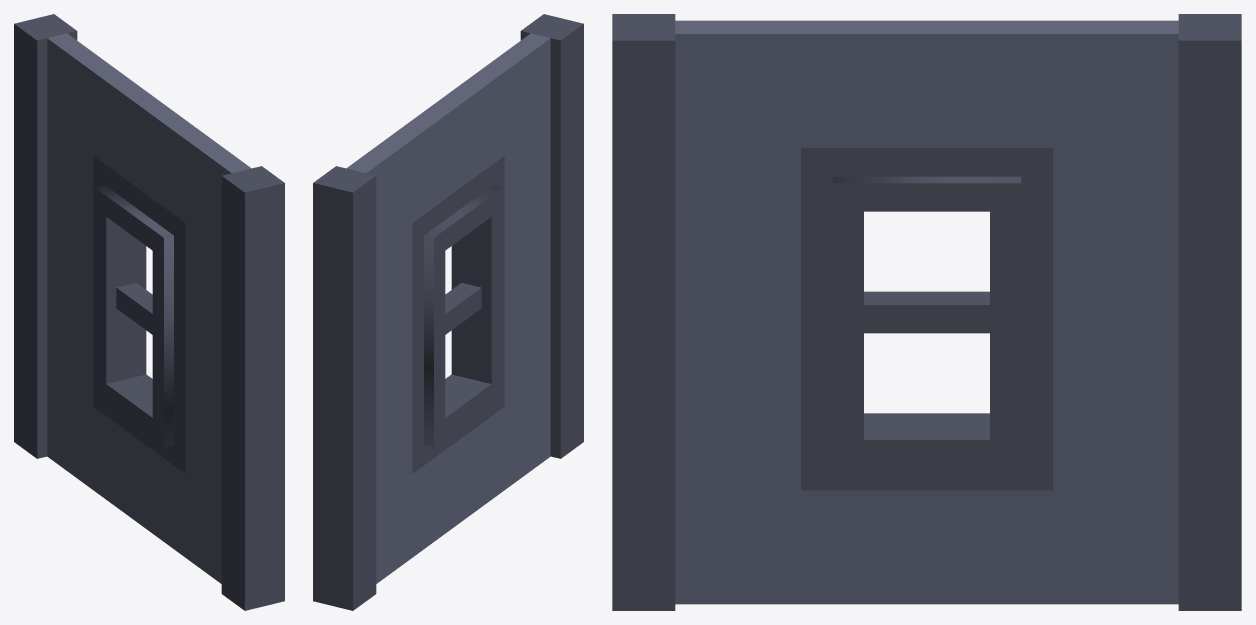
File: wall-wood-window-glass.glb
3 views of the same model, side by side, from view 1: azimuth 30°, elevation 25°; view 2: azimuth 150°, elevation 25°; view 3: azimuth 270°, elevation 25° (orthographic). The views are drawn at different scales.
Parts seen in each view (by area): view 1: wall-wood-window-glass; view 2: wall-wood-window-glass; view 3: wall-wood-window-glass.
Part boxes in pixels (x1,y1,x2,y2): wall-wood-window-glass: [14, 14, 284, 610]; wall-wood-window-glass: [313, 14, 583, 610]; wall-wood-window-glass: [612, 14, 1241, 610].
Bounding box in the file's own units: 0.1 × 1 × 1.
Materials: 1 (1 with a texture image).
